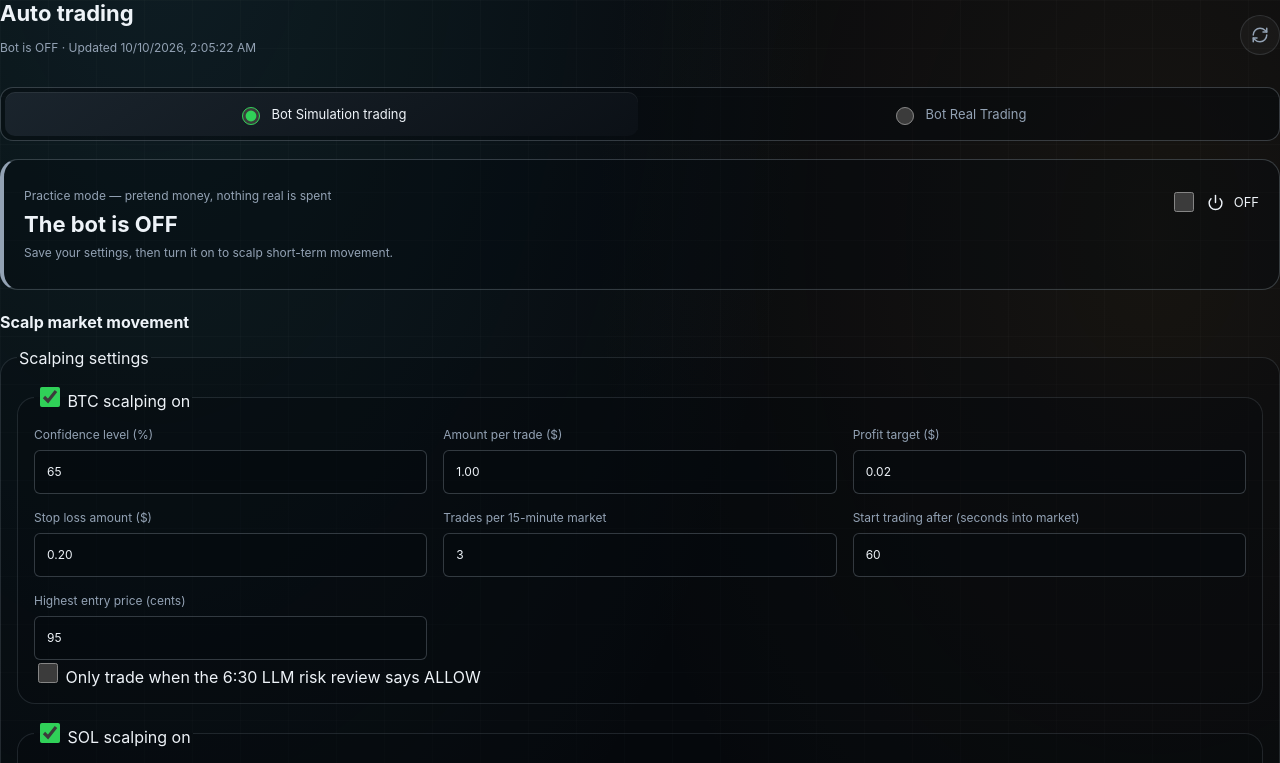
it: Trading tab › needs the dialog and a checkbox to turn real money on, and can always turn off
The image size is (1280, 763).
Click the radio button labelled "Bot Real Trading" at (905, 116), box left=896, top=107, right=914, bottom=125
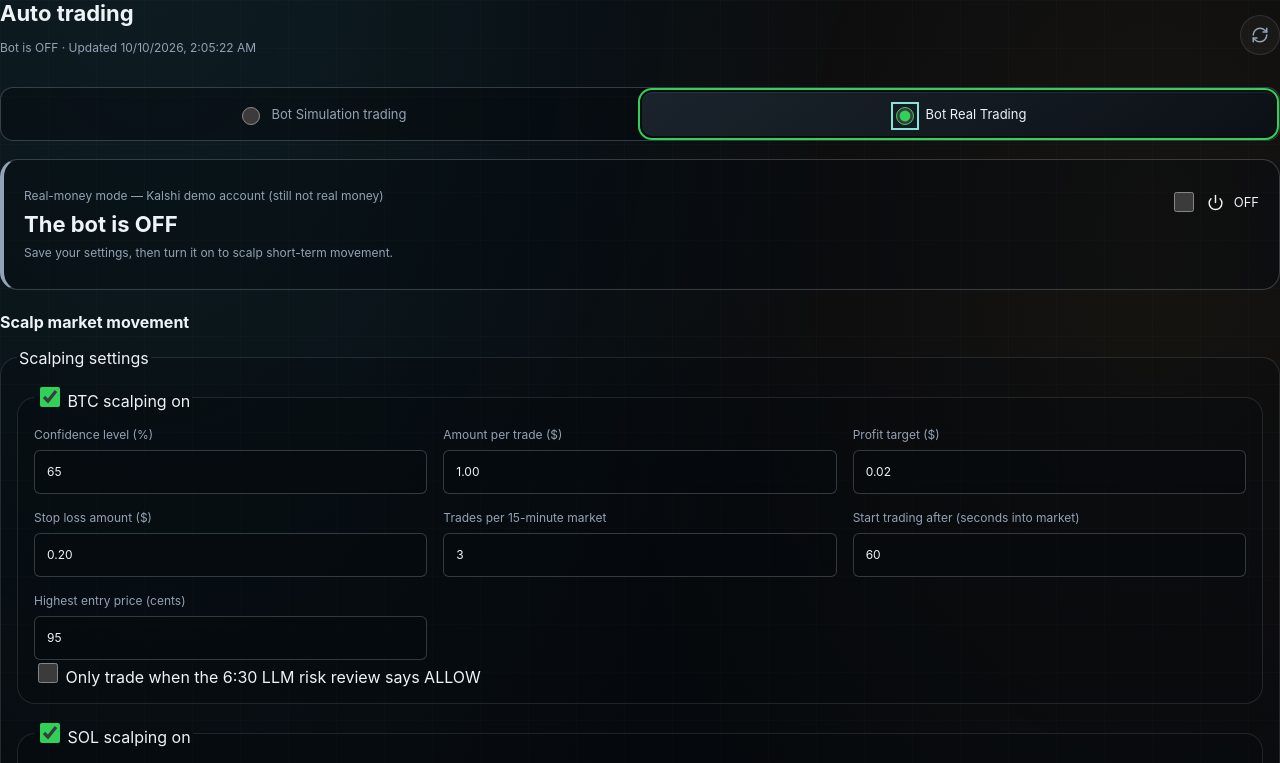
Click the switch at (1184, 202), box left=1174, top=192, right=1194, bottom=212
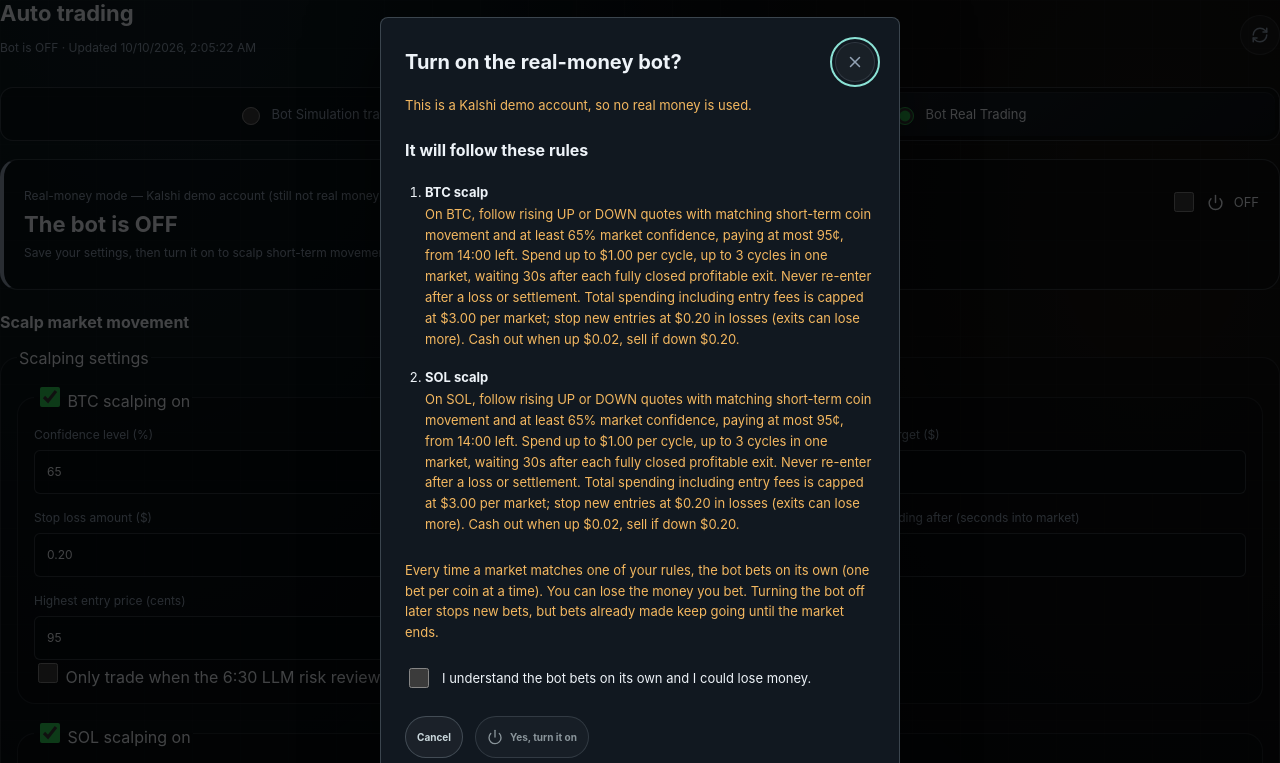
Result: the heading "Turn on the real-money bot?" is shown at left=405, top=50, right=682, bottom=74
Result: the text "Spend up to $1.00" is shown 2 times at left=425, top=204, right=875, bottom=349; left=425, top=389, right=875, bottom=535
Result: the text "BTC scalp" is shown at left=425, top=184, right=488, bottom=200
Click the checkbox at (419, 678), box left=409, top=668, right=429, bottom=688
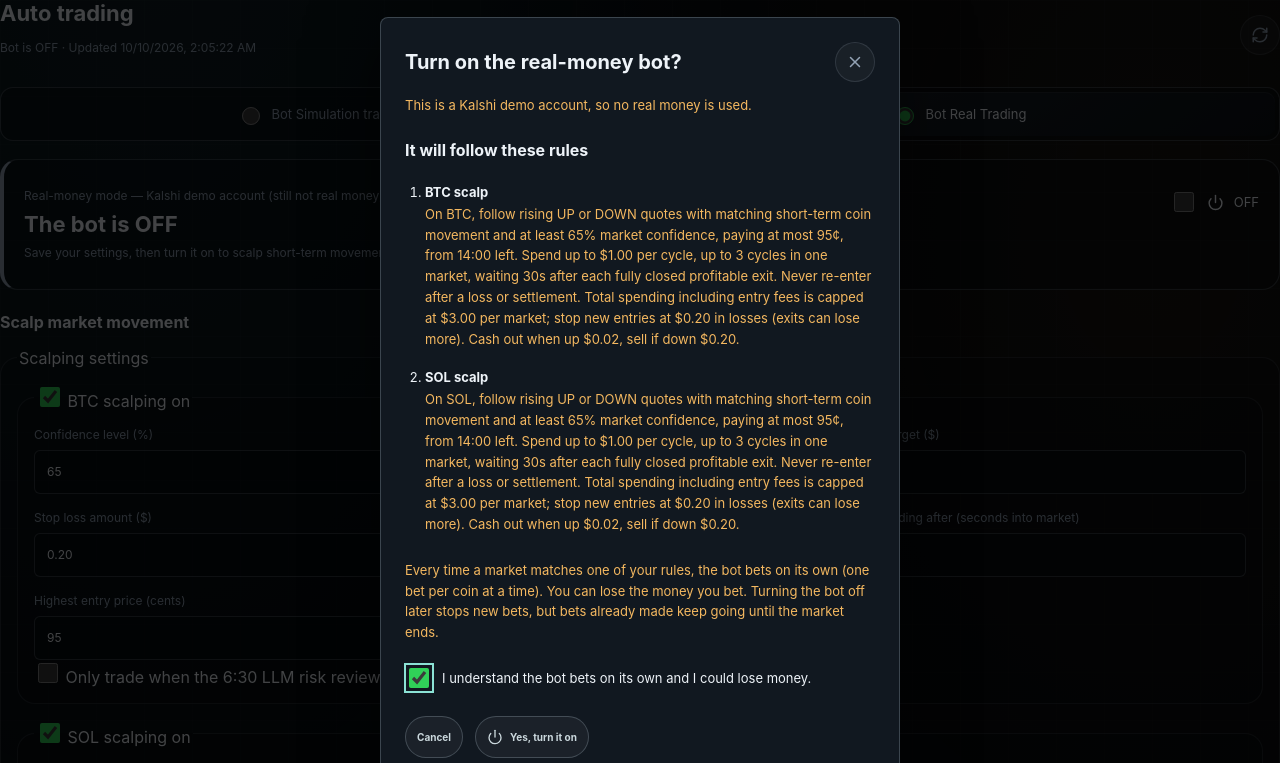
Click the button "Yes, turn it on" at (532, 737), box left=475, top=716, right=589, bottom=758
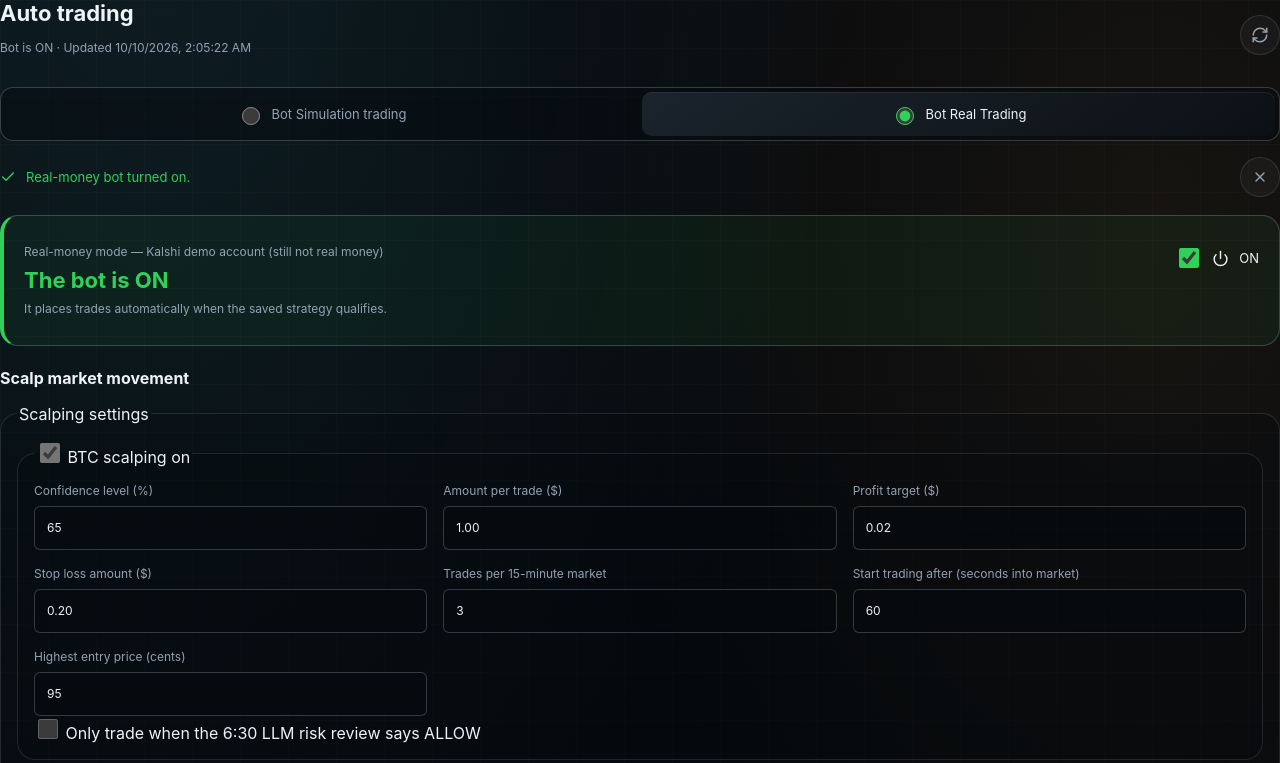
Result: the text "Real-money bot turned on." is shown at left=0, top=157, right=1279, bottom=197
Click the button named "Refresh" at (1260, 35), box left=1240, top=15, right=1279, bottom=55
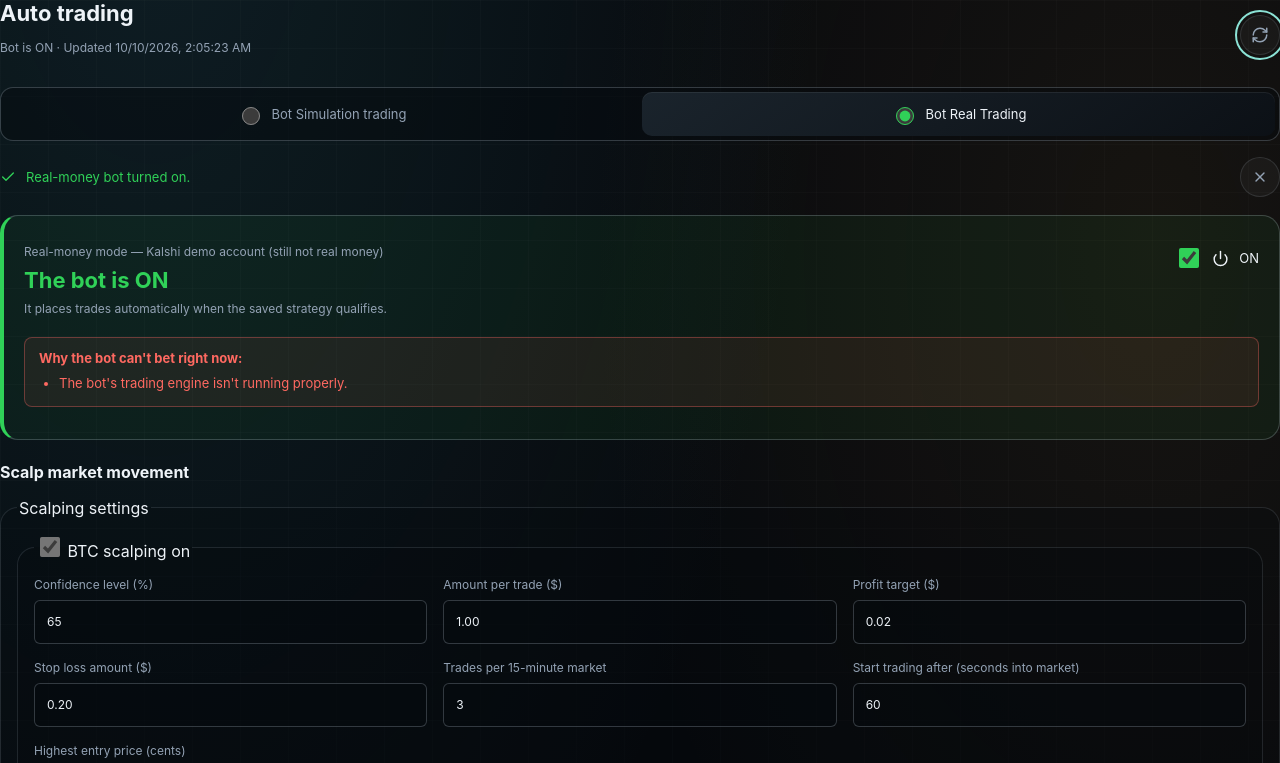
Result: the list item "The bot's trading engine isn't running properly." is shown at left=59, top=375, right=348, bottom=391
Click the switch at (1189, 258), box left=1179, top=248, right=1199, bottom=268
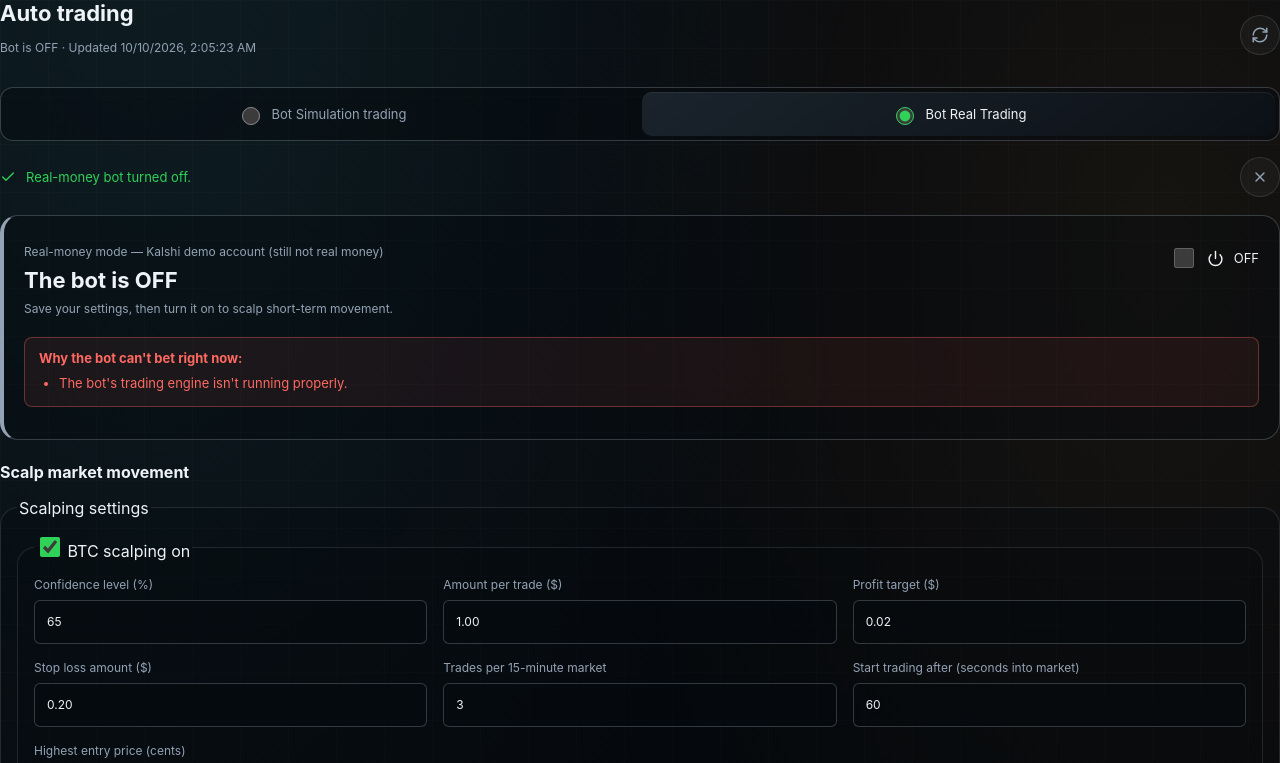
Result: the text "Real-money bot turned off." is shown at left=0, top=157, right=1279, bottom=197
